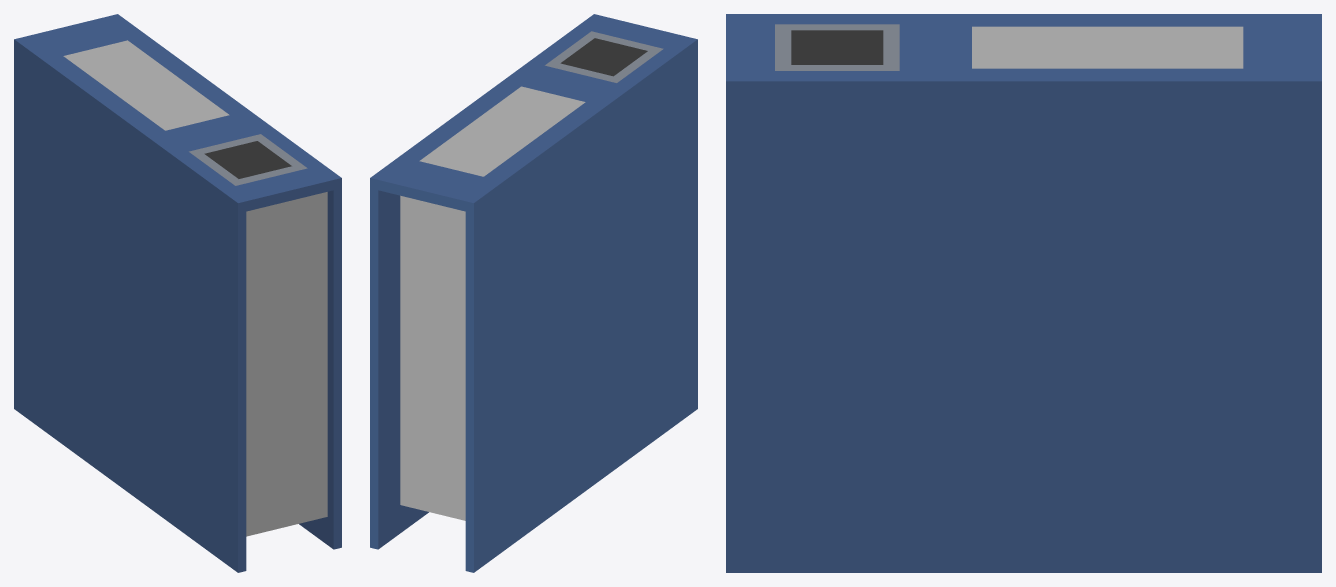
The model's file is BoxFile.glb.
3 views of the same model, side by side, from view 1: azimuth 30°, elevation 25°; view 2: azimuth 150°, elevation 25°; view 3: azimuth 270°, elevation 25° (orthographic). The views are drawn at different scales.
Visible parts, largest first — view 1: SO_Boxfile_01; view 2: SO_Boxfile_01; view 3: SO_Boxfile_01.
Part boxes in pixels (bbox=[...]): SO_Boxfile_01: bbox=[14, 14, 341, 572]; SO_Boxfile_01: bbox=[370, 14, 697, 572]; SO_Boxfile_01: bbox=[726, 14, 1321, 572].
Bounding box in the file's own units: 0.1745 × 0.5946 × 0.6529.
1 material, 1 textured.
